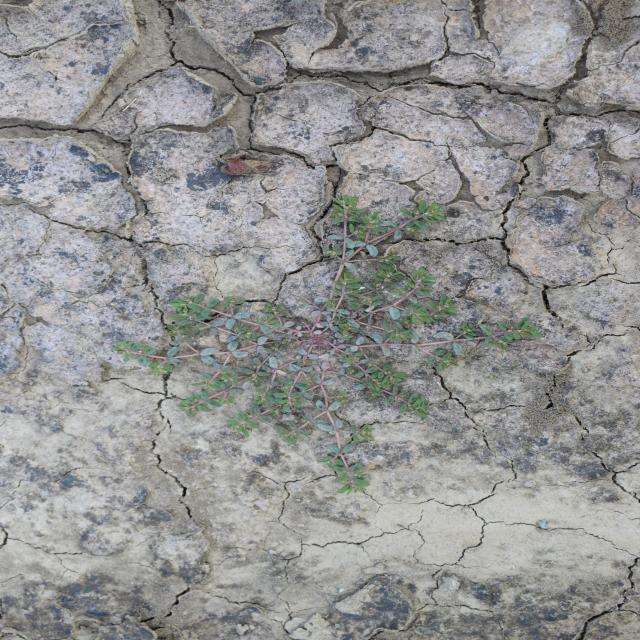SpottedSpurge: (109, 191, 545, 499)
